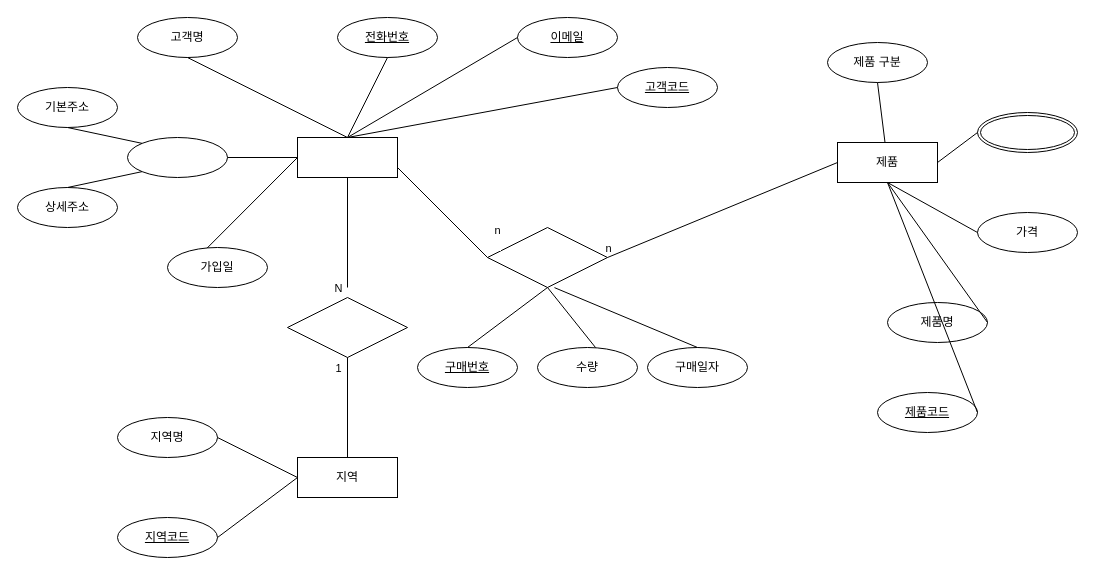
Some shapes in this 1095 by 575 pixel diagram are drawn without their labels. The box of each missing label's shape, as (x1, y1, x2, y2) in pixels:
고객: (296, 136, 398, 178)
관리: (286, 296, 408, 358)
구매: (486, 226, 608, 288)
제품 색상: (976, 112, 1078, 152)
주소: (126, 136, 228, 178)
